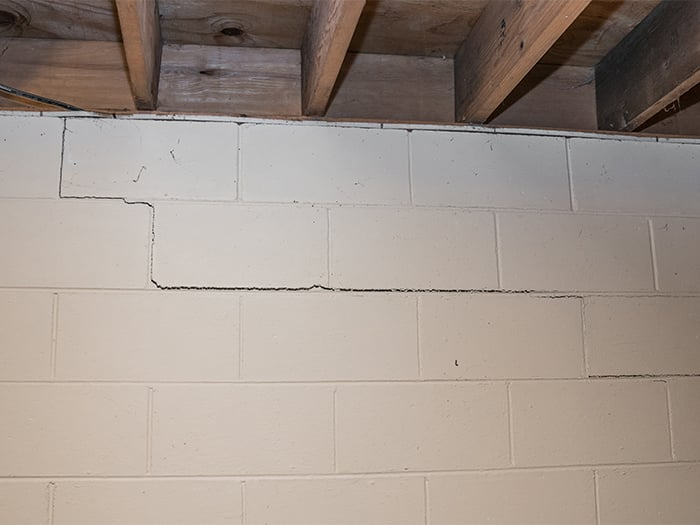stairstep_crack: (46, 107, 697, 395)
